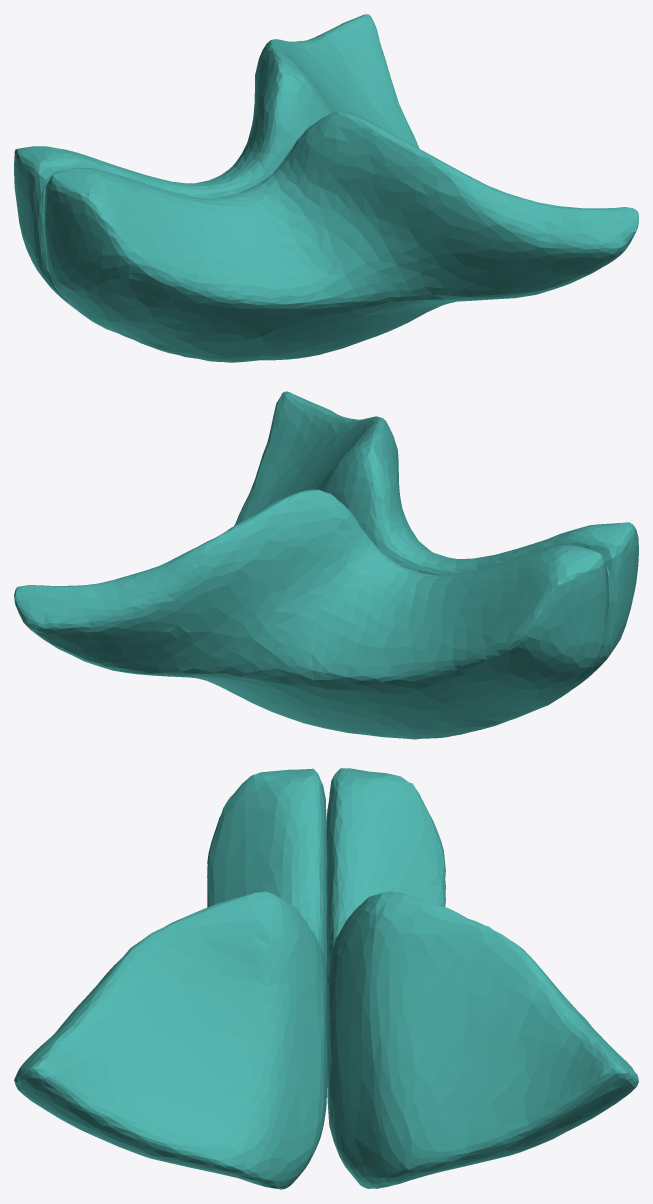
3 renders of one model, top to bottom at view 1: azimuth 30°, elevation 25°; view 2: azimuth 150°, elevation 25°; view 3: azimuth 270°, elevation 25°, orthographic. The views are drawn at different scales.
Visible parts, largest first — view 1: 886.obj; view 2: 886.obj; view 3: 886.obj.
Boxes of the visible parts, x1,y1,x2,y2 form: 886.obj: (14,14,638,362); 886.obj: (14,391,638,739); 886.obj: (14,768,638,1189).
Size of the model in its own units: 3313 by 1688 by 3543.
